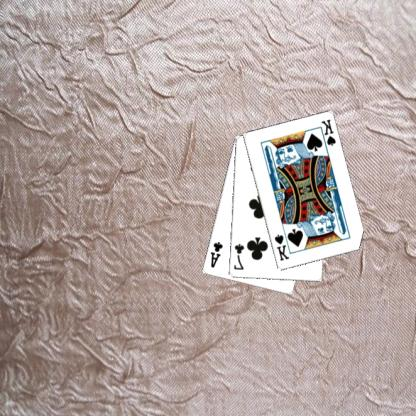7C: (232, 242, 247, 272)
AC: (209, 239, 226, 269)
KS: (318, 117, 338, 151), (274, 232, 292, 262)
